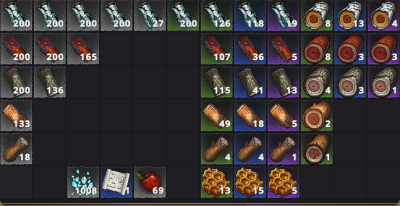ash heartwood: (301, 66, 332, 97), (334, 66, 365, 96), (368, 66, 398, 97)
ash log: (267, 66, 298, 97), (235, 66, 265, 97), (202, 67, 232, 97), (35, 67, 64, 97), (2, 66, 30, 97)
birch heartwood: (301, 1, 332, 30), (369, 1, 400, 30), (334, 1, 364, 30)
birch log: (267, 1, 299, 30), (35, 1, 65, 30), (68, 1, 98, 30), (101, 1, 131, 30), (135, 1, 165, 30), (167, 1, 197, 30), (202, 1, 232, 30), (234, 1, 264, 30), (2, 1, 31, 29)
ethereal dust: (67, 166, 98, 197)
oak heartwood: (302, 100, 332, 131)
oak log: (202, 101, 232, 131), (1, 101, 32, 130), (235, 101, 265, 130), (269, 100, 298, 130)
spruce heartwood: (302, 133, 331, 163)
spruce log: (1, 133, 32, 164), (202, 133, 231, 163), (235, 133, 264, 163), (269, 133, 298, 163)
yew heartwood: (301, 33, 333, 64), (368, 34, 400, 63), (335, 33, 364, 63)
yew log: (35, 33, 65, 64), (201, 33, 232, 63), (268, 33, 299, 63), (67, 33, 97, 63), (1, 34, 32, 63), (235, 33, 264, 63)
